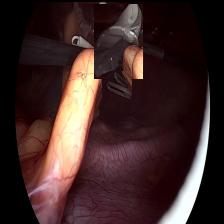Grasper: (101, 70, 131, 99), (128, 39, 166, 57)
Specimen Bag: (93, 3, 141, 77)
